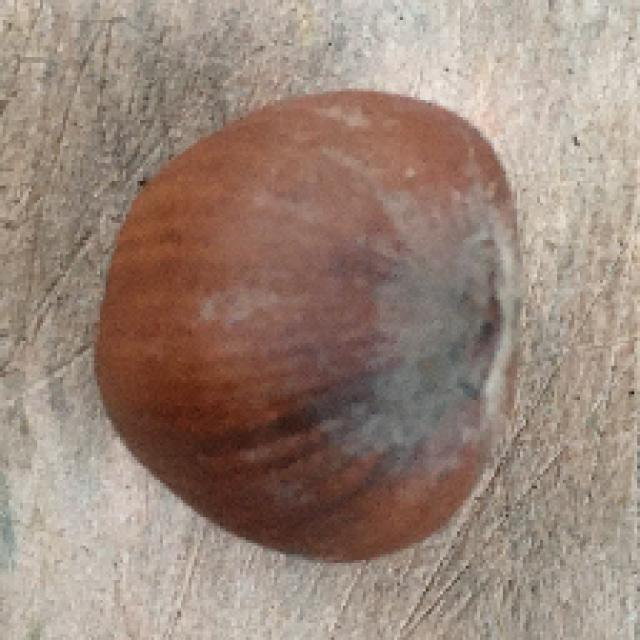qualityHazelnut: (92, 87, 533, 567)
